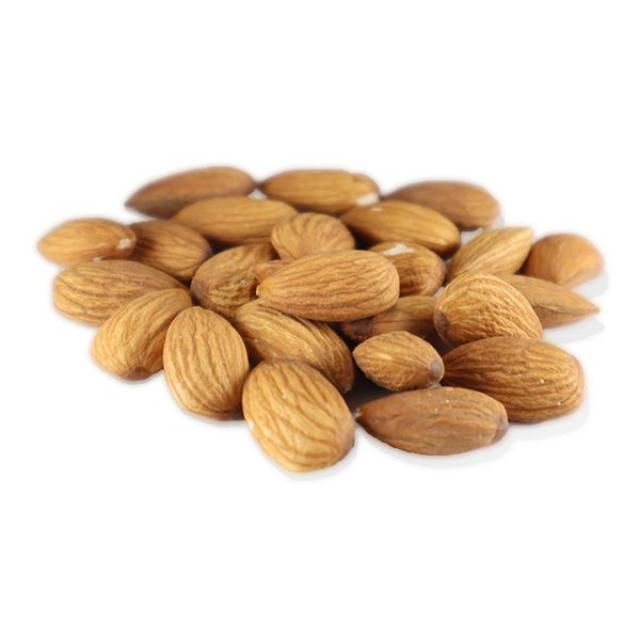almond: (443, 332, 585, 422), (245, 360, 352, 468), (238, 303, 360, 392), (358, 388, 512, 455), (167, 305, 253, 415), (90, 290, 195, 377), (432, 273, 540, 350), (264, 254, 399, 314), (52, 257, 182, 318), (173, 193, 302, 245), (344, 202, 464, 255), (502, 272, 602, 330), (125, 167, 258, 210), (355, 329, 445, 389), (37, 212, 138, 258), (263, 167, 375, 208), (450, 222, 537, 273)
